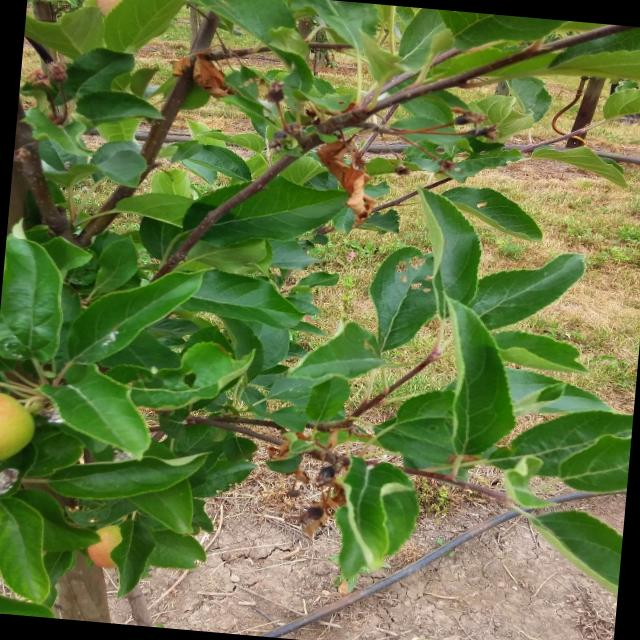-FireBlight-: (314, 111, 382, 217), (179, 42, 241, 104)
